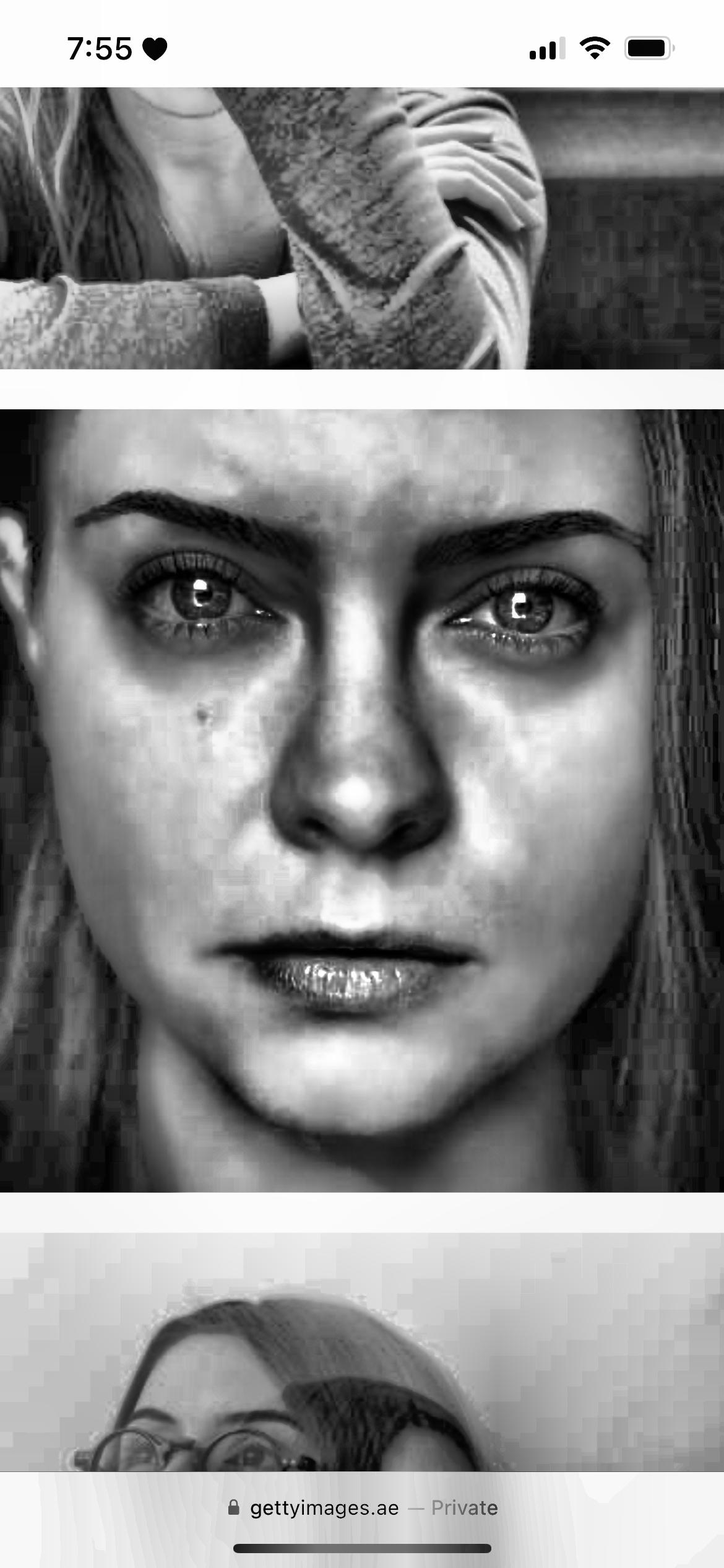sad: (54, 419, 677, 1141)
